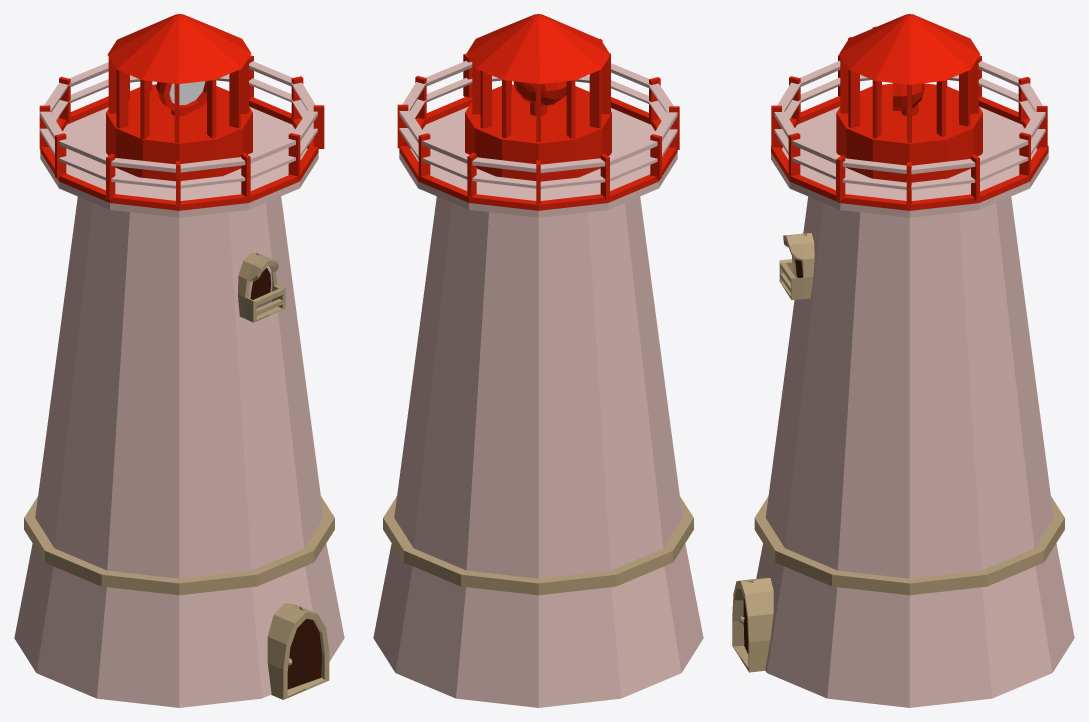
File: phare.fbx
3 views of the same model, side by side, from view 1: azimuth 30°, elevation 25°; view 2: azimuth 150°, elevation 25°; view 3: azimuth 270°, elevation 25° (orthographic).
Visible parts, largest first — view 1: phare, Cylinder, Cylinder.001, Cube, Cube.001, Cube.026, Cylinder.002, Cube.023, Cube.008, Cube.015, Cube.003, Cube.027; view 2: phare, Cylinder, Cylinder.001, Cylinder.002, Cube.023, Cube.011, Cube.022, Cube.004, Cube.015; view 3: phare, Cylinder, Cylinder.001, Cube, Cube.001, Cube.008, Cube.011, Cylinder.002, Cube.025, Cube.014.
Part boxes in pixels (box(x1,y1,x2,y2)): phare: box(14, 14, 344, 707); Cylinder: box(39, 61, 317, 172); Cylinder.001: box(39, 74, 317, 188); Cube: box(267, 603, 329, 699); Cube.001: box(238, 252, 285, 322); Cube.026: box(287, 619, 321, 689); Cylinder.002: box(156, 81, 206, 113); Cube.023: box(116, 70, 128, 128); Cube.008: box(229, 69, 240, 128); Cube.015: box(140, 79, 149, 139); Cube.003: box(207, 78, 216, 138); Cube.027: box(248, 265, 272, 308); phare: box(373, 14, 703, 707); Cylinder: box(399, 60, 677, 172); Cylinder.001: box(399, 75, 677, 188); Cylinder.002: box(513, 81, 566, 105); Cube.023: box(589, 70, 601, 128); Cube.011: box(480, 71, 491, 128); Cube.022: box(566, 80, 575, 138); Cube.004: box(502, 79, 511, 138); Cube.015: box(601, 53, 610, 113); phare: box(754, 14, 1074, 707); Cylinder: box(774, 60, 1045, 174); Cylinder.001: box(774, 74, 1045, 190); Cube: box(732, 578, 773, 672); Cube.001: box(779, 233, 814, 300); Cube.008: box(848, 69, 859, 127); Cube.011: box(959, 70, 970, 126); Cylinder.002: box(892, 83, 924, 110); Cube.025: box(872, 80, 881, 138); Cube.014: box(936, 80, 945, 136).
Size of the model in its own units: 443 by 923 by 459.
